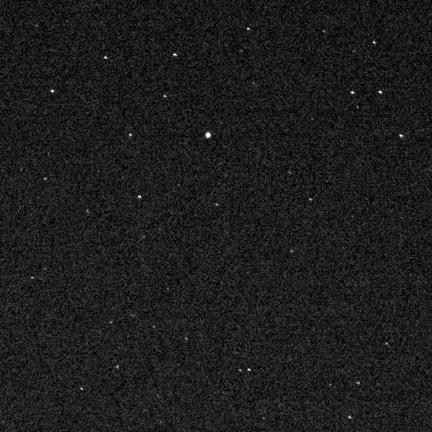blob: (206, 133, 211, 138), (356, 382, 361, 386), (290, 250, 294, 254), (51, 90, 55, 94), (373, 41, 377, 45), (164, 95, 168, 99), (309, 198, 313, 202), (400, 135, 404, 138), (104, 57, 108, 60), (129, 134, 133, 137), (248, 369, 252, 372), (247, 28, 251, 31), (44, 178, 48, 181), (80, 388, 84, 391), (378, 91, 382, 94), (173, 53, 177, 56), (216, 204, 219, 207), (351, 91, 354, 94), (138, 195, 141, 198), (323, 30, 326, 33)
